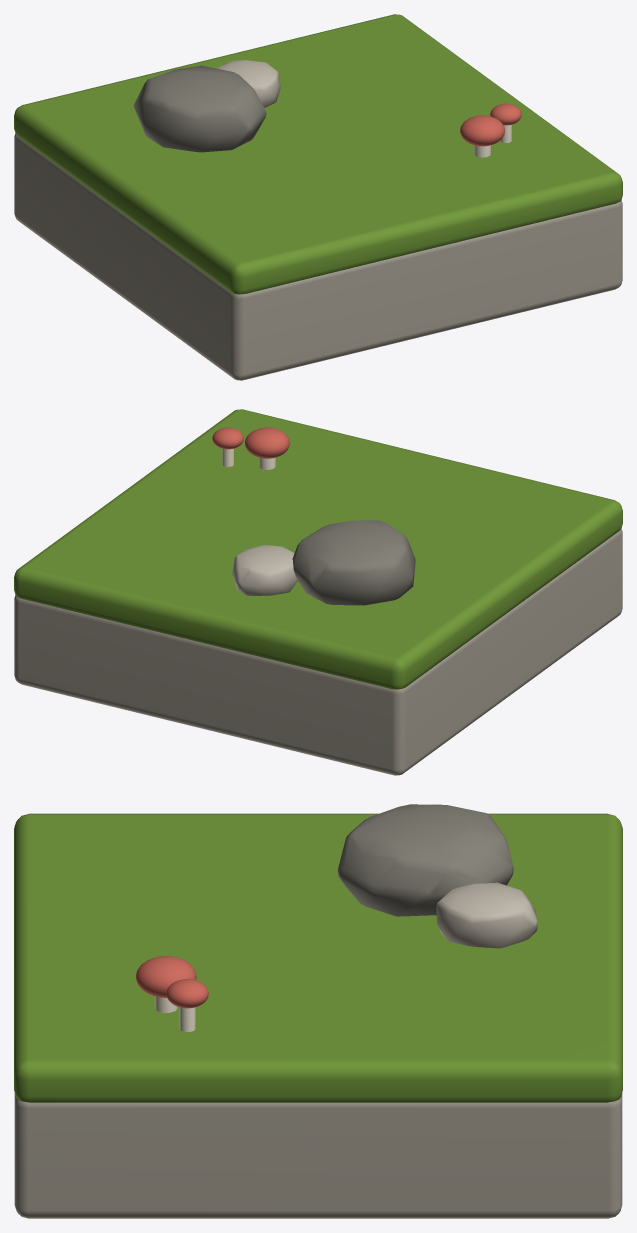
The model's file is tile_stone_mossy.glb.
3 renders of one model, top to bottom at view 1: azimuth 30°, elevation 25°; view 2: azimuth 150°, elevation 25°; view 3: azimuth 270°, elevation 25°, orthographic. The views are drawn at different scales.
Visible parts, largest first — view 1: sm_cap, sm_body, sm_r0, sm_r1, smm_c0, smm_c1; view 2: sm_cap, sm_body, sm_r0, sm_r1, smm_c0, smm_c1; view 3: sm_cap, sm_body, sm_r0, sm_r1, smm_c0, smm_c1.
Boxes of the visible parts, x1,y1,x2,y2 form: sm_cap: (14,14,622,294); sm_body: (14,133,622,380); sm_r0: (133,65,266,152); sm_r1: (217,60,280,107); smm_c0: (460,115,504,146); smm_c1: (490,103,521,125); sm_cap: (14,409,622,689); sm_body: (14,528,622,775); sm_r0: (292,520,415,605); sm_r1: (232,545,297,595); smm_c0: (245,427,289,458); smm_c1: (212,427,243,449); sm_cap: (14,813,622,1102); sm_body: (14,1093,622,1218); sm_r0: (337,804,513,916); sm_r1: (436,882,537,948); smm_c0: (136,956,196,997); smm_c1: (166,979,208,1008).
Size of the model in its own units: 2 by 0.8035 by 2.
